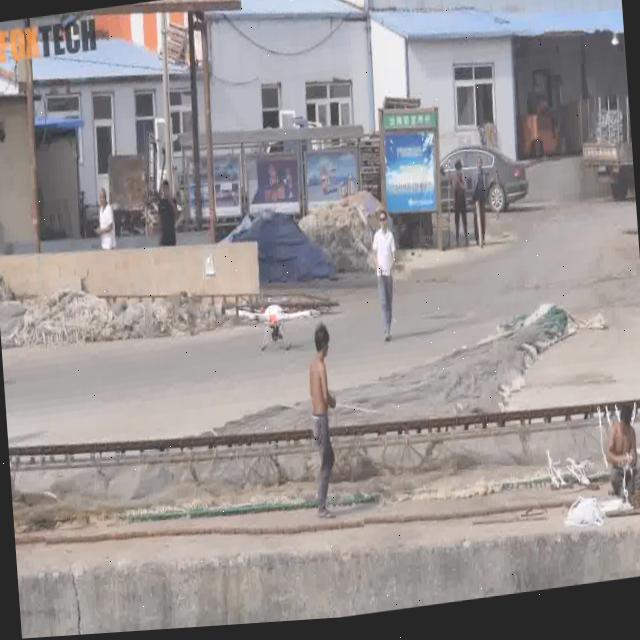drone: (230, 295, 318, 355)
